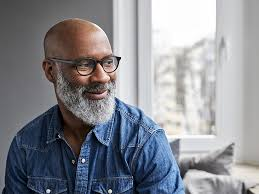g.y: (72, 58, 95, 78)
